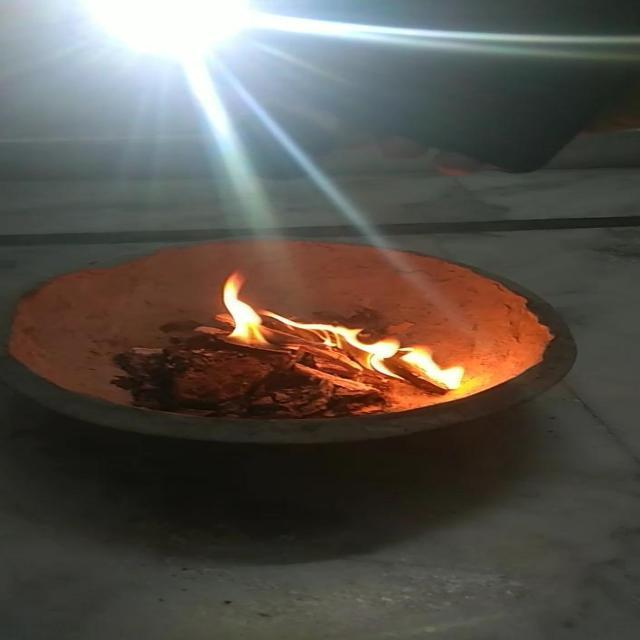smoke: (208, 270, 466, 400)
